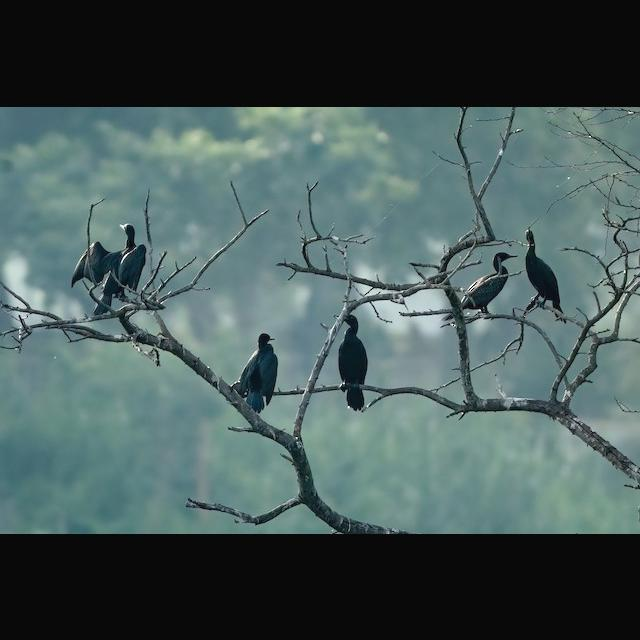cormorant: (71, 217, 147, 325), (436, 247, 518, 325), (225, 328, 283, 427), (524, 225, 566, 323), (332, 311, 371, 411)
